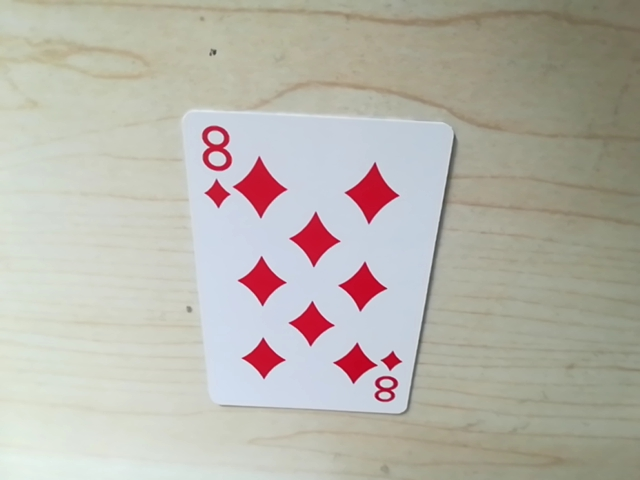fk 8: (192, 121, 242, 190), (367, 355, 404, 406)
